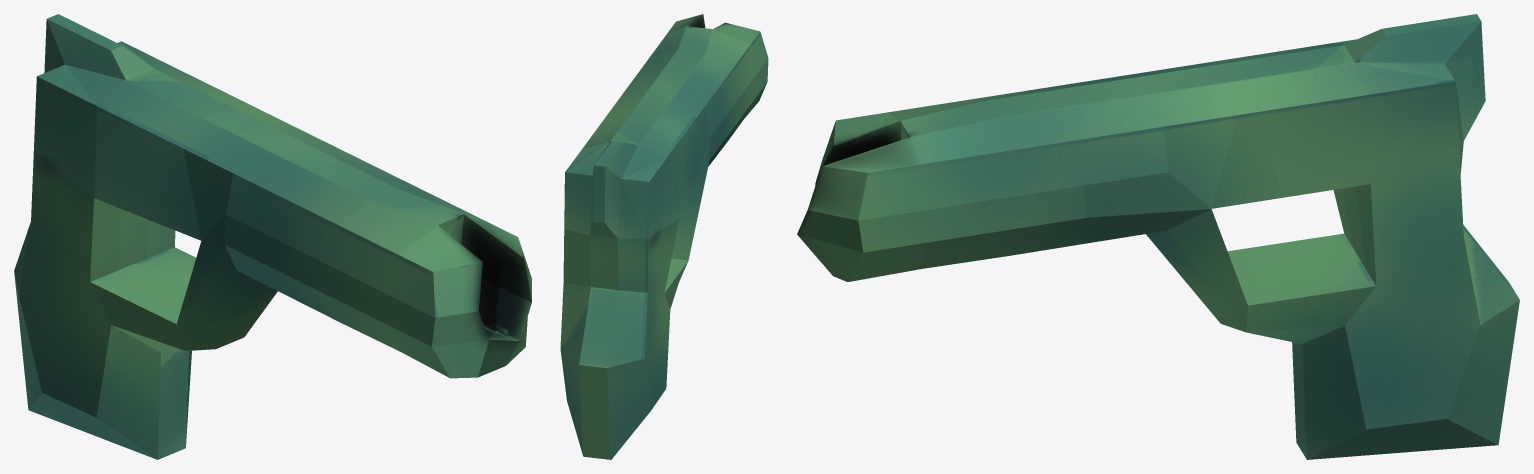
The model's file is BubbleWeapon.fbx.
3 views of the same model, side by side, from view 1: azimuth 30°, elevation 25°; view 2: azimuth 150°, elevation 25°; view 3: azimuth 270°, elevation 25° (orthographic). The views are drawn at different scales.
Visible parts, largest first — view 1: Weapon1; view 2: Weapon1; view 3: Weapon1.
Part boxes in pixels (x1=…): Weapon1: x1=14, y1=14, x2=531, y2=459; Weapon1: x1=560, y1=14, x2=768, y2=459; Weapon1: x1=797, y1=14, x2=1519, y2=459.
Size of the model in its own units: 13 by 20.52 by 31.96.
